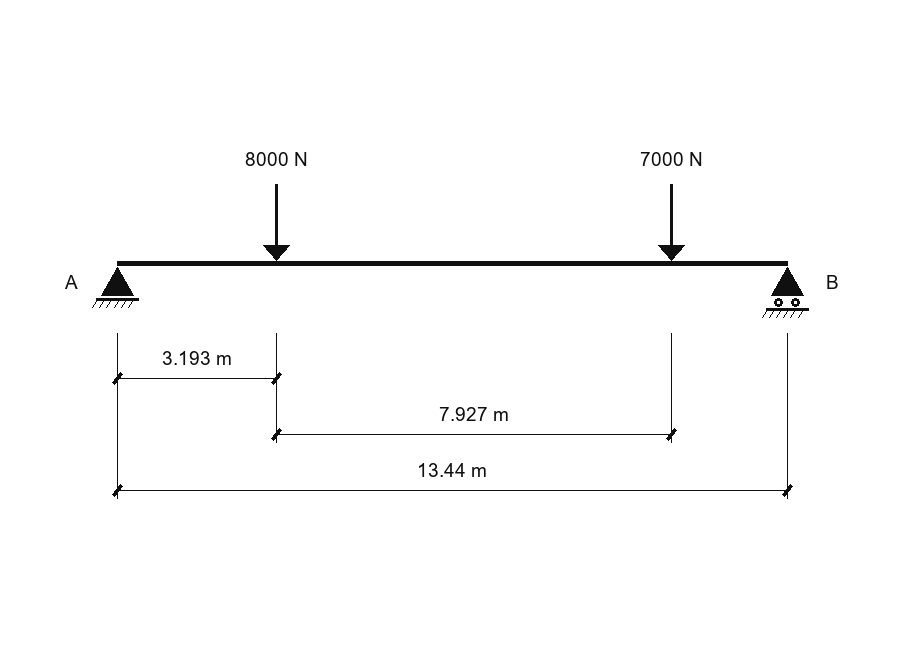pin_support: (92, 267, 139, 308)
point_load: (263, 184, 290, 261), (658, 184, 685, 261)
roller_support: (762, 267, 809, 318)
